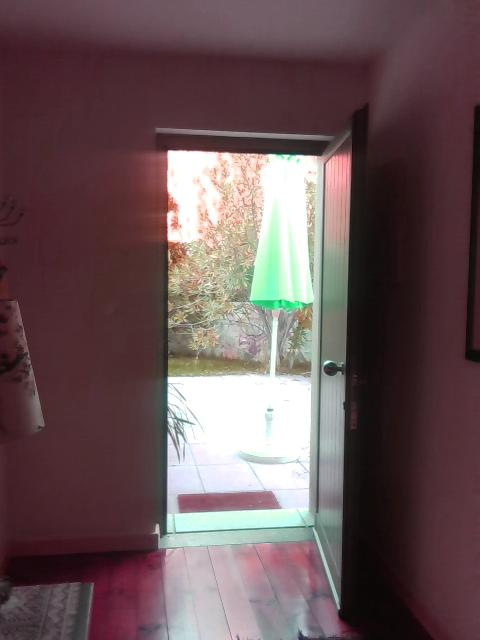open_door: (153, 124, 345, 551)
